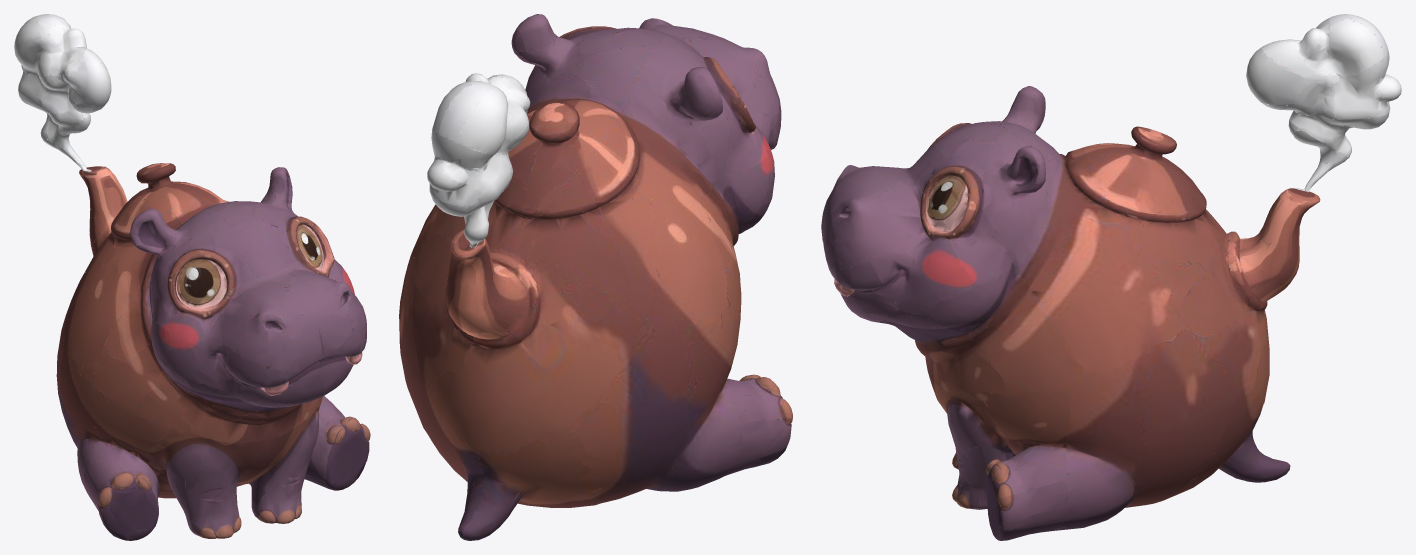
3 renders of one model, left to right at view 1: azimuth 30°, elevation 25°; view 2: azimuth 150°, elevation 25°; view 3: azimuth 270°, elevation 25°, orthographic. The views are drawn at different scales.
Visible parts, largest first — view 1: Mesh_0; view 2: Mesh_0; view 3: Mesh_0.
Boxes of the visible parts, <box> form: Mesh_0: <box>14,14,370,540</box>; Mesh_0: <box>399,14,792,540</box>; Mesh_0: <box>821,14,1401,540</box>.
Bounding box in the file's own units: 1.15 × 1.62 × 1.9.
Materials: 1 (1 with a texture image).
